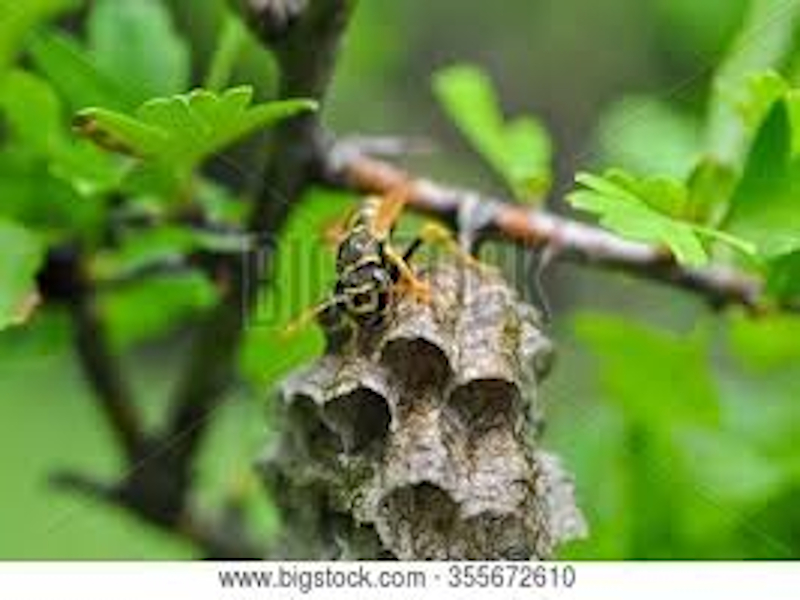chax: (309, 182, 450, 344)
